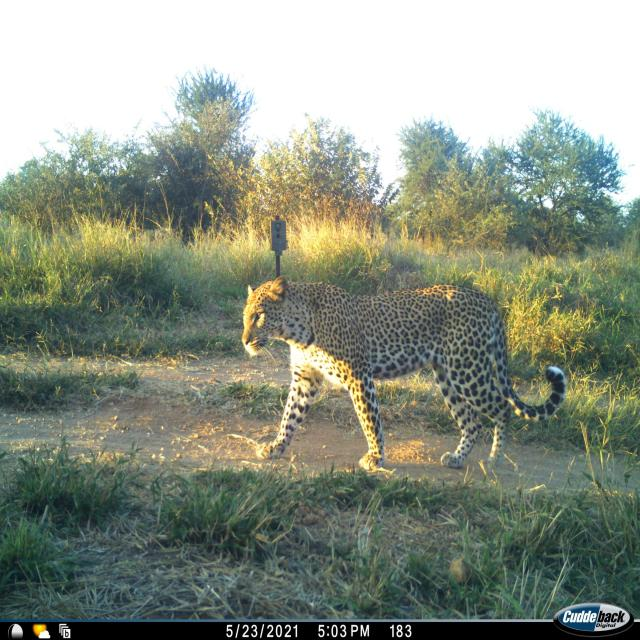Leopard: (246, 268, 563, 491)
